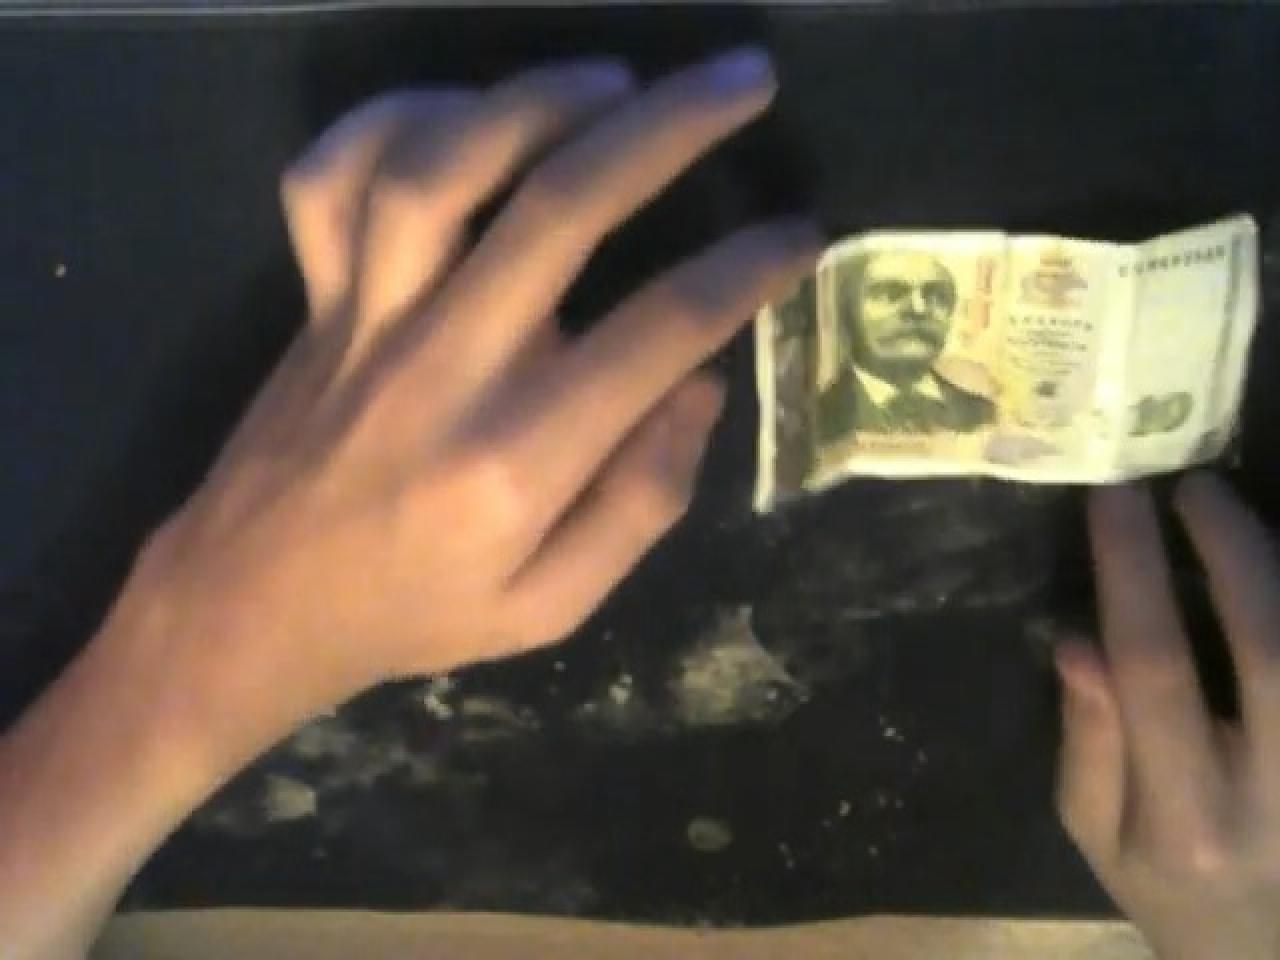10leva: (805, 252, 1003, 467)
